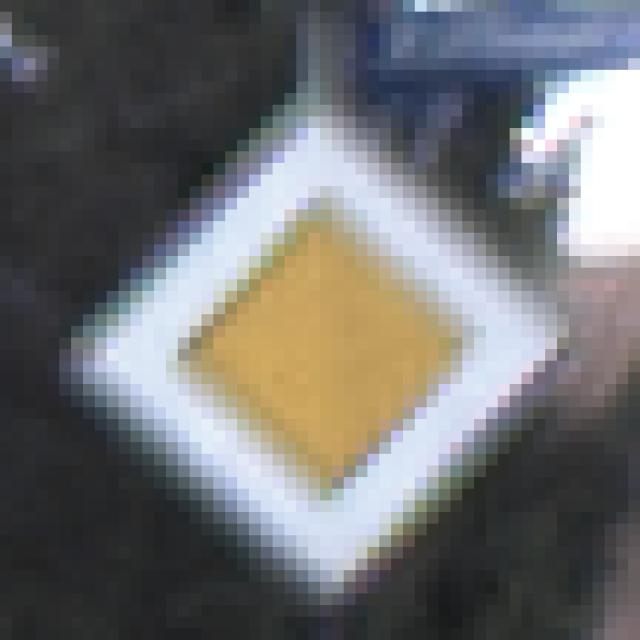Main Road: (60, 71, 582, 583)
